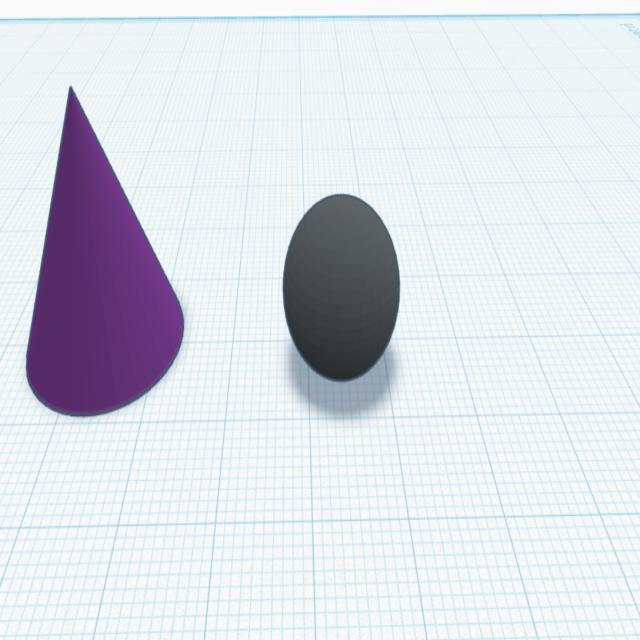cone: (23, 78, 187, 419)
sphere: (279, 186, 402, 386)
